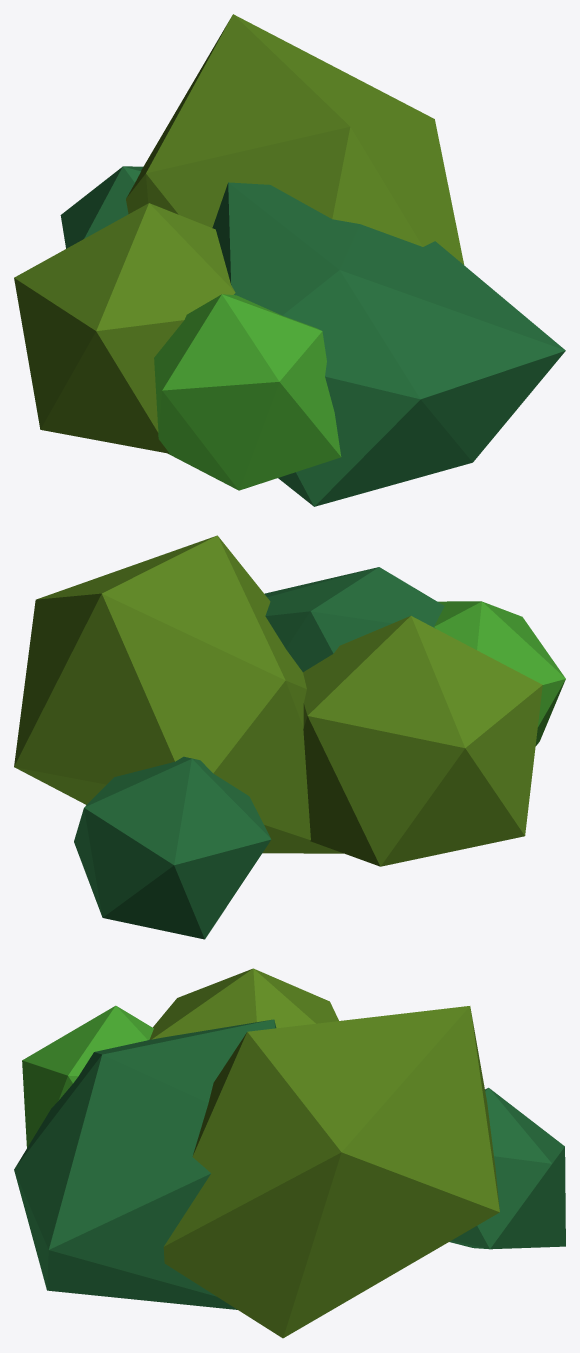
Rendered from bush2.fbx.
3 renders of one model, top to bottom at view 1: azimuth 30°, elevation 25°; view 2: azimuth 150°, elevation 25°; view 3: azimuth 270°, elevation 25°, orthographic. The views are drawn at different scales.
Parts seen in each view (by area): view 1: Bush2; view 2: Bush2; view 3: Bush2.
Boxes of the visible parts, <box> form: Bush2: <box>14,14,565,506</box>; Bush2: <box>14,535,565,939</box>; Bush2: <box>14,968,565,1338</box>.
Size of the model in its own units: 341 by 219 by 386.
